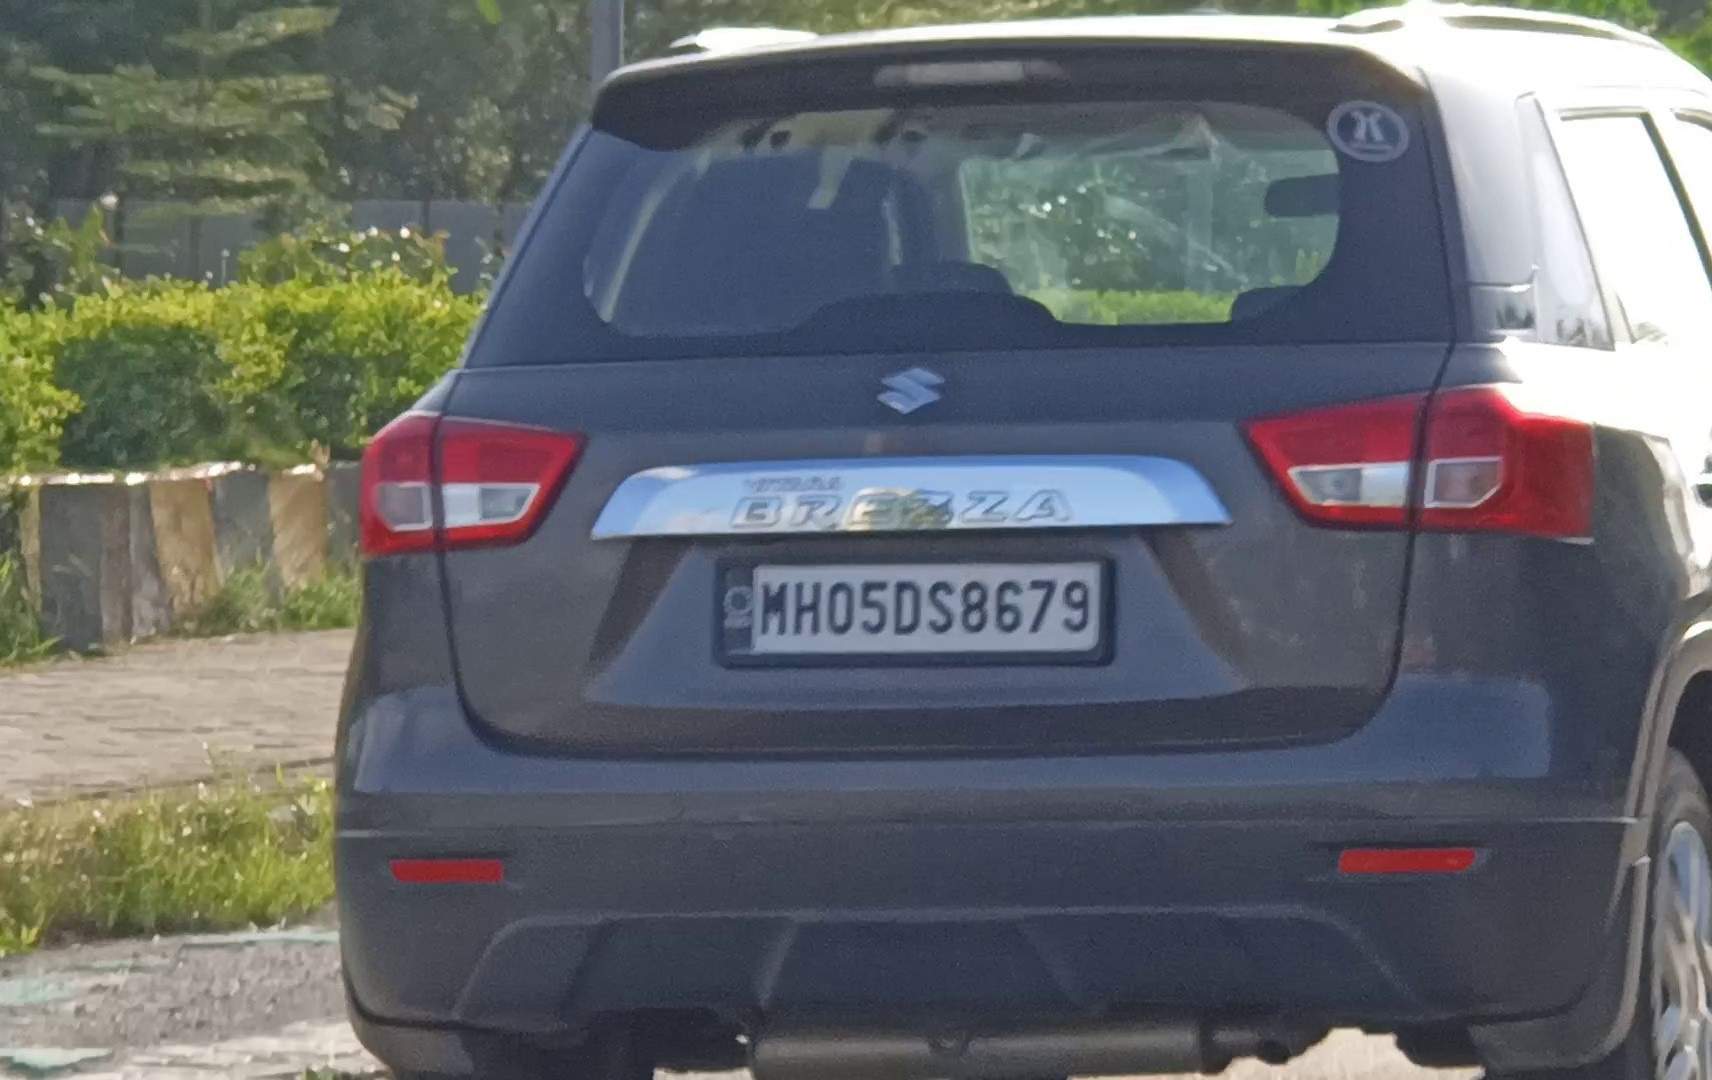MH05DS8679: (720, 564, 1104, 656)
